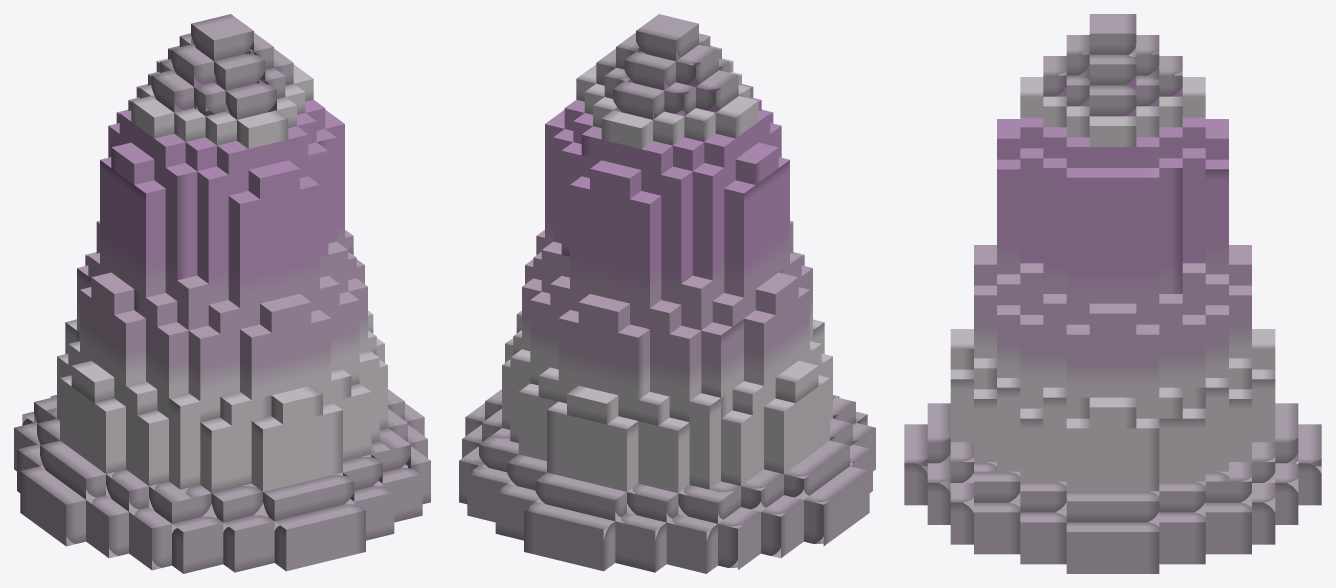
The model's file is crystal1.obj.
The picture shows the model from 3 angles, left to right: view 1: azimuth 30°, elevation 25°; view 2: azimuth 150°, elevation 25°; view 3: azimuth 270°, elevation 25°; orthographic projection.
Parts seen in each view (by area): view 1: Model; view 2: Model; view 3: Model.
Boxes of the visible parts, <box> form: Model: <box>14,14,430,573</box>; Model: <box>459,14,875,573</box>; Model: <box>904,14,1321,573</box>.
Bounding box in the file's own units: 18 × 22 × 18.
1 material, 1 textured.
